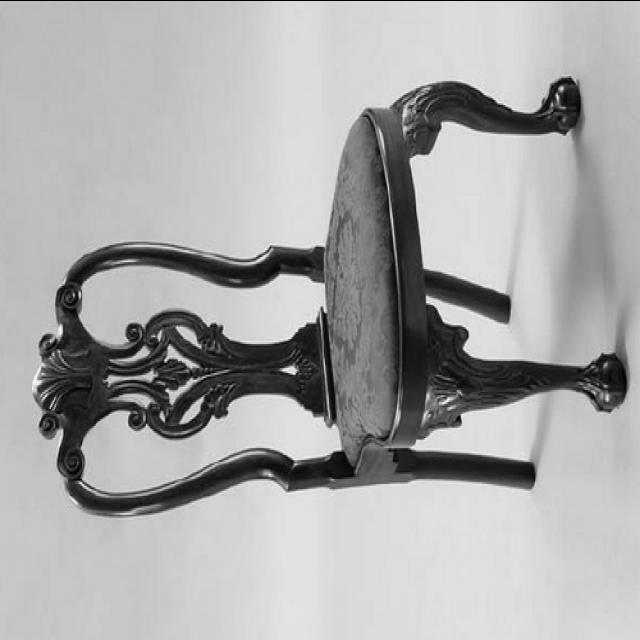chair: (29, 74, 629, 516)
